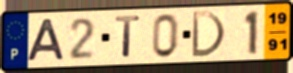0: (150, 12, 181, 60)
1: (242, 9, 261, 56)
2: (68, 17, 99, 62)
A: (25, 17, 67, 64)
D: (190, 10, 228, 59)
T: (114, 14, 143, 60)
